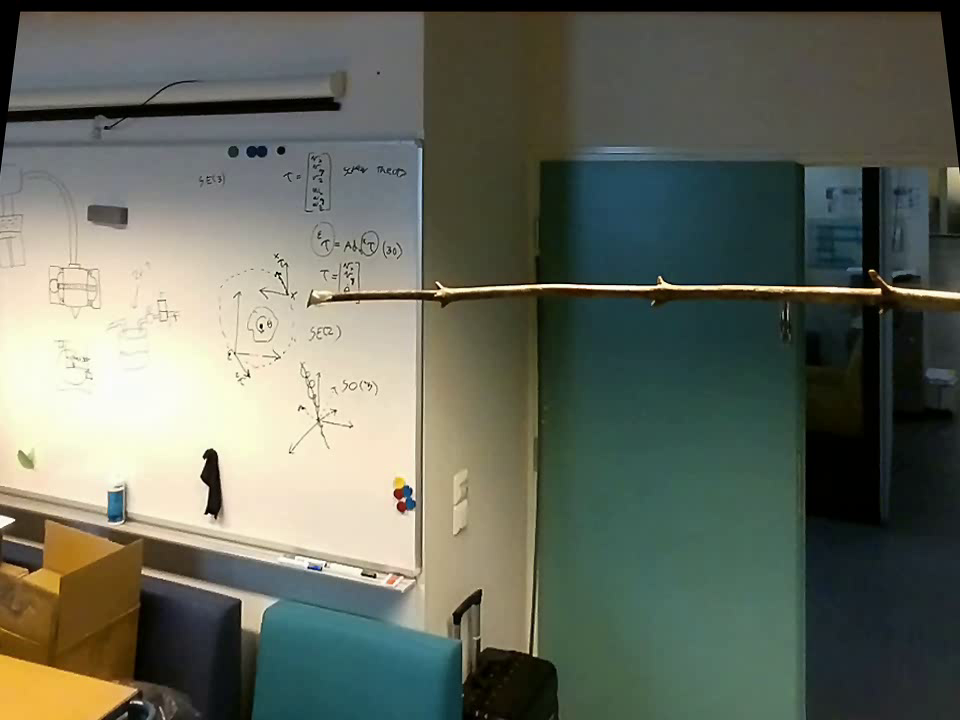aluminum_frame: (1, 483, 421, 598), (4, 133, 425, 156), (411, 129, 425, 579)
branch: (335, 262, 957, 318)
